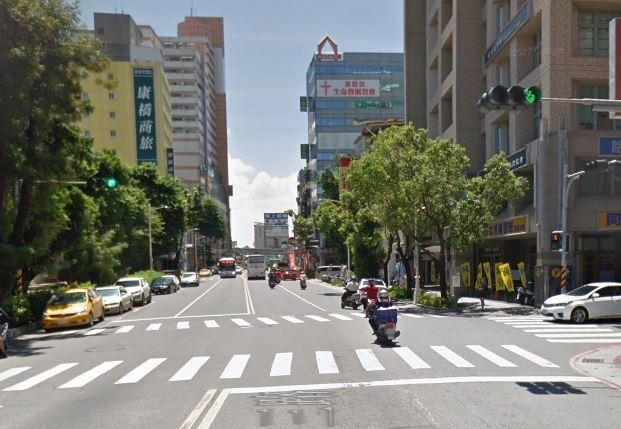green_traffic_light: (476, 85, 542, 110), (84, 176, 118, 190)
